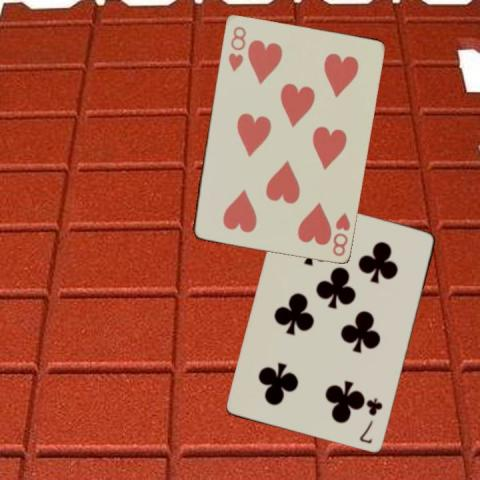7c: (357, 396, 384, 446)
8h: (225, 23, 247, 73), (330, 210, 352, 258)
